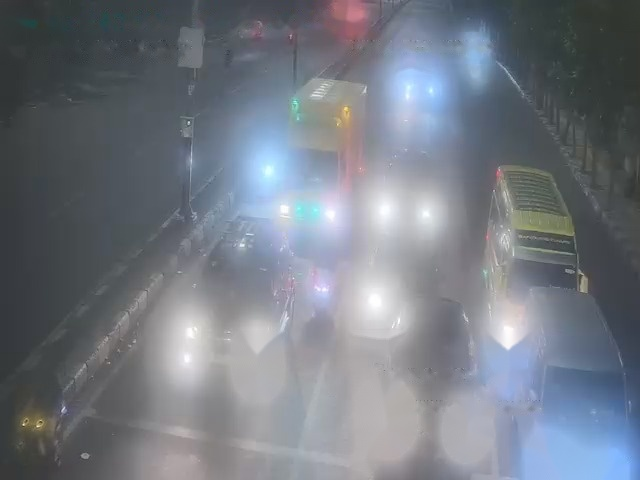Mobil: (520, 301, 636, 480), (190, 233, 289, 384), (385, 298, 478, 432), (376, 137, 441, 233), (403, 55, 439, 105)
Truk: (493, 155, 585, 325), (277, 75, 363, 232)
